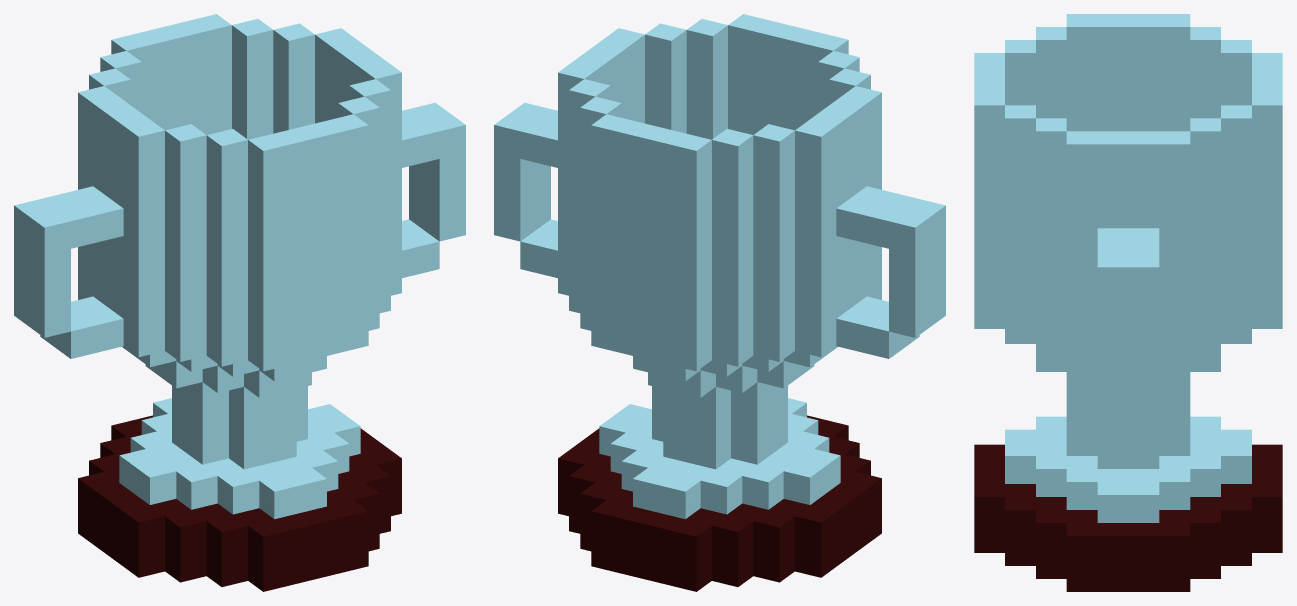
The model's file is Trophy-8.obj.
3 renders of one model, left to right at view 1: azimuth 30°, elevation 25°; view 2: azimuth 150°, elevation 25°; view 3: azimuth 270°, elevation 25°, orthographic.
Visible parts, largest first — view 1: Trophy-8; view 2: Trophy-8; view 3: Trophy-8.
Boxes of the visible parts, box(x1,y1,x2,y2) form: Trophy-8: box(14, 14, 465, 591); Trophy-8: box(494, 14, 945, 591); Trophy-8: box(974, 14, 1282, 591).
Size of the model in its own units: 16 by 16 by 10.
Materials: 1 (1 with a texture image).
